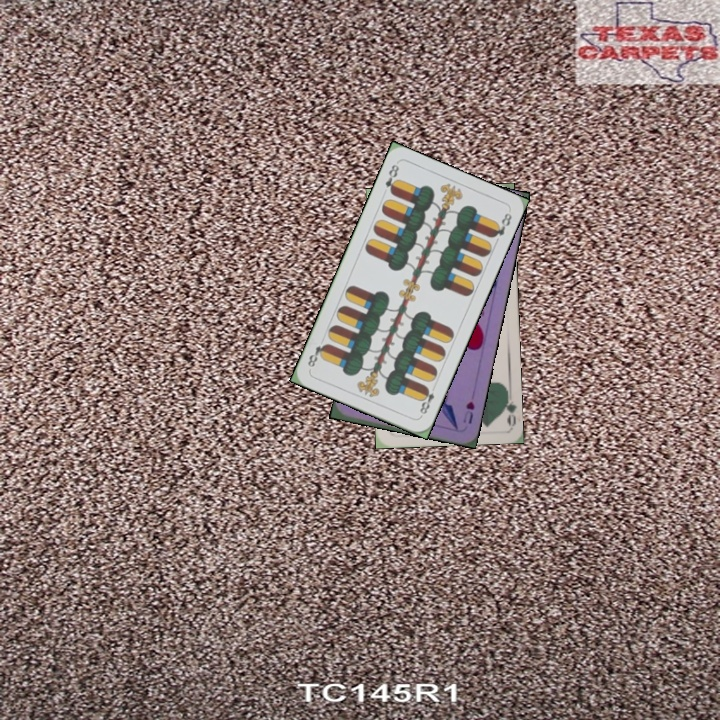E8: (416, 381, 439, 419), (381, 160, 402, 197)
GO: (498, 387, 518, 427)
HU: (459, 397, 477, 426)
